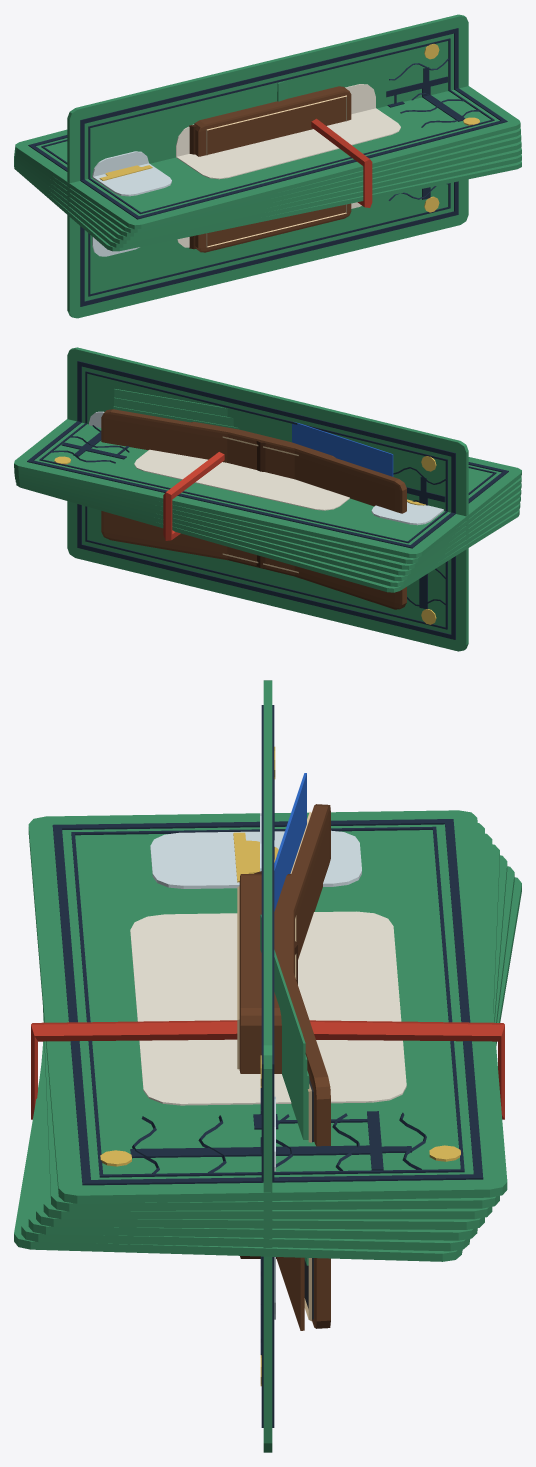
Rendered from cash.glb.
3 views of the same model, one above another, from view 1: azimuth 30°, elevation 25°; view 2: azimuth 150°, elevation 25°; view 3: azimuth 270°, elevation 25° (orthographic). The views are drawn at different scales.
Visible parts, largest first — view 1: cash_bill, cash_stack, wallet_closed; view 2: cash_stack, cash_bill, wallet_open, wallet_closed; view 3: cash_stack, wallet_open, cash_bill, wallet_closed.
Boxes of the visible parts, bbox=[...] form: cash_bill: bbox=[67, 14, 468, 318]; cash_stack: bbox=[14, 86, 521, 251]; wallet_closed: bbox=[189, 86, 351, 252]; cash_stack: bbox=[14, 419, 521, 592]; cash_bill: bbox=[67, 347, 468, 651]; wallet_open: bbox=[101, 389, 406, 609]; wallet_closed: bbox=[191, 419, 335, 576]; cash_stack: bbox=[14, 810, 521, 1261]; wallet_open: bbox=[260, 773, 330, 1330]; cash_bill: bbox=[260, 680, 275, 1452]; wallet_closed: bbox=[237, 871, 296, 1258].
Size of the model in its own units: 0.3089 by 0.15 by 0.1697.
